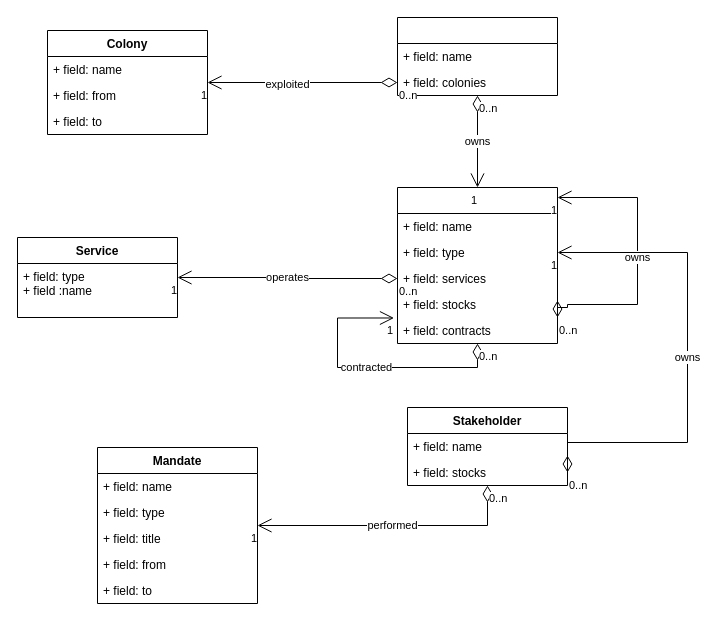
Image size: 722x624. Some labels were removed from this diagram. Here are the shapes that lost their labels. From the top down, the box of each, then its label:
(396, 16, 558, 96): Country
(396, 186, 558, 344): Company
